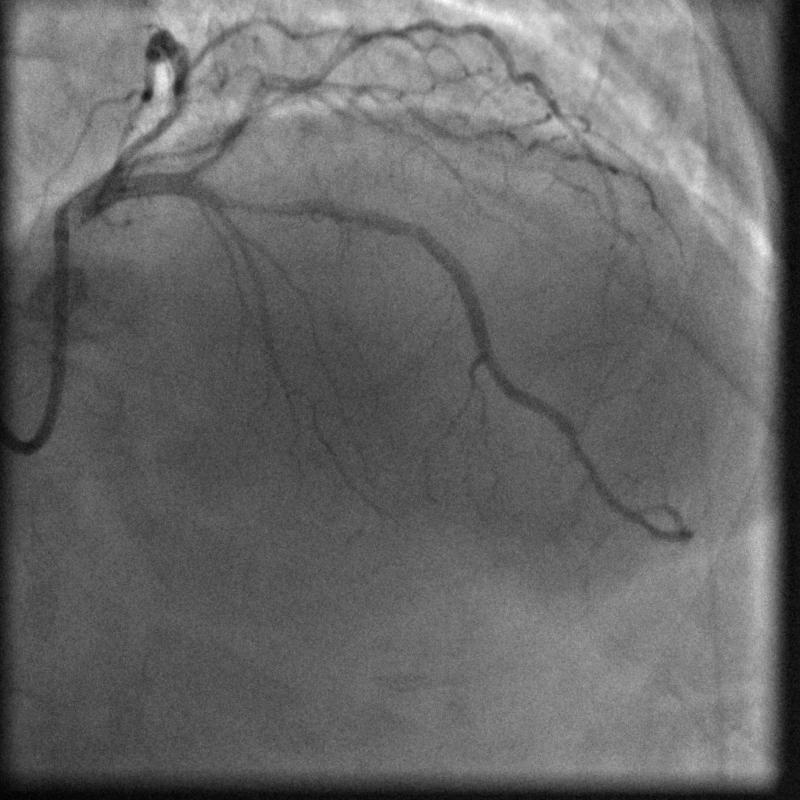Stenosis: (232, 184, 310, 230)
